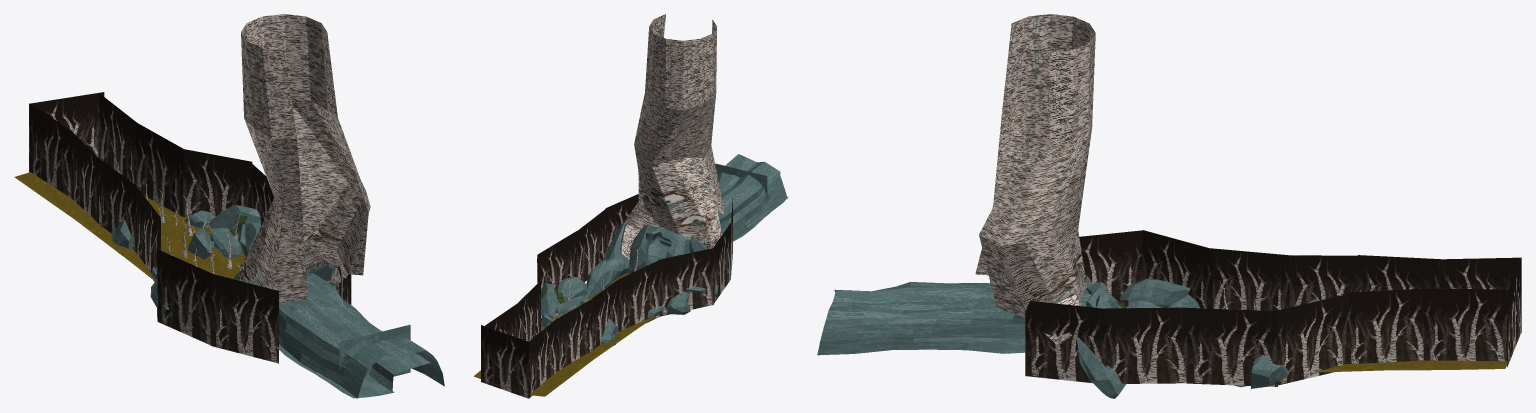
File: map_finale5.obj
3 views of the same model, side by side, from view 1: azimuth 30°, elevation 25°; view 2: azimuth 150°, elevation 25°; view 3: azimuth 270°, elevation 25° (orthographic). The views are drawn at different scales.
Visible parts, largest first — view 1: big_tree, roof, foret.013, lvl_floor, foret.012, foret.003, foret.004, foret.007, foret.005, foret.006, foret.009, foret.008 (+11 smaller); view 2: big_tree, roof, foret.006, foret.011, foret.010, foret.008, foret.002, foret.001, foret.007, lvl_floor, foret.009, foret.004 (+14 smaller); view 3: big_tree, roof, foret.002, foret.005, foret.001, foret.004, foret, foret.003, foret.010, foret.011, foret.009, foret.012 (+8 smaller).
Boxes of the visible parts, x1=… form: big_tree: x1=238, y1=14, x2=370, y2=303; roof: x1=252, y1=272, x2=444, y2=398; foret.013: x1=210, y1=273, x2=278, y2=363; lvl_floor: x1=14, y1=172, x2=245, y2=280; foret.012: x1=157, y1=249, x2=212, y2=344; foret.003: x1=183, y1=149, x2=252, y2=217; foret.004: x1=135, y1=122, x2=183, y2=216; foret.007: x1=30, y1=104, x2=72, y2=197; foret.005: x1=99, y1=93, x2=136, y2=184; foret.006: x1=29, y1=92, x2=104, y2=172; foret.009: x1=96, y1=156, x2=136, y2=251; foret.008: x1=71, y1=131, x2=102, y2=227; big_tree: x1=620, y1=14, x2=724, y2=259; roof: x1=649, y1=154, x2=786, y2=253; foret.006: x1=481, y1=325, x2=529, y2=398; foret.011: x1=658, y1=248, x2=713, y2=316; foret.010: x1=618, y1=260, x2=660, y2=331; foret.008: x1=556, y1=298, x2=593, y2=371; foret.002: x1=537, y1=231, x2=576, y2=290; foret.001: x1=577, y1=208, x2=606, y2=282; foret.007: x1=529, y1=319, x2=556, y2=397; lvl_floor: x1=473, y1=273, x2=655, y2=396; foret.009: x1=587, y1=279, x2=618, y2=353; foret.004: x1=516, y1=280, x2=540, y2=341; big_tree: x1=975, y1=14, x2=1095, y2=345; roof: x1=817, y1=282, x2=1091, y2=355; foret.002: x1=1187, y1=308, x2=1277, y2=386; foret.005: x1=1423, y1=288, x2=1507, y2=361; foret.001: x1=1105, y1=307, x2=1188, y2=383; foret.004: x1=1344, y1=288, x2=1427, y2=363; foret: x1=1025, y1=301, x2=1106, y2=383; foret.003: x1=1275, y1=294, x2=1348, y2=385; foret.010: x1=1211, y1=248, x2=1291, y2=311; foret.011: x1=1142, y1=230, x2=1212, y2=308; foret.009: x1=1289, y1=255, x2=1368, y2=307; foret.012: x1=1079, y1=230, x2=1142, y2=307.
Size of the model in its own units: 49.67 by 88.37 by 171.
